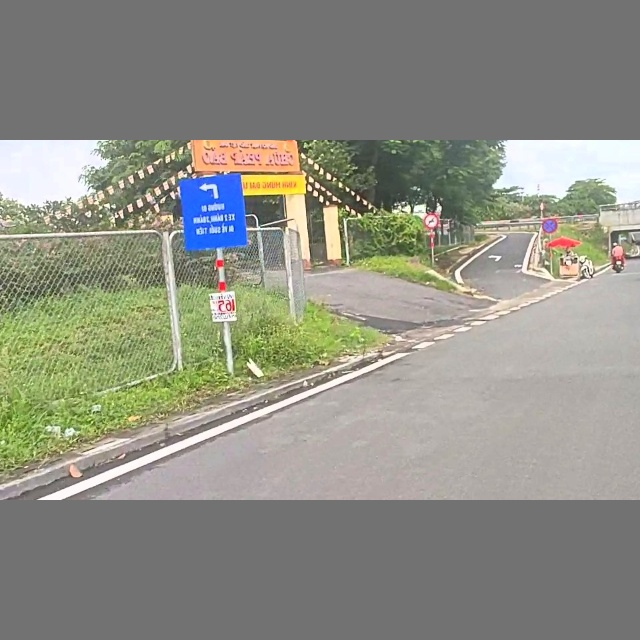P.103a: (423, 213, 440, 229)
P.130: (541, 218, 558, 234)
